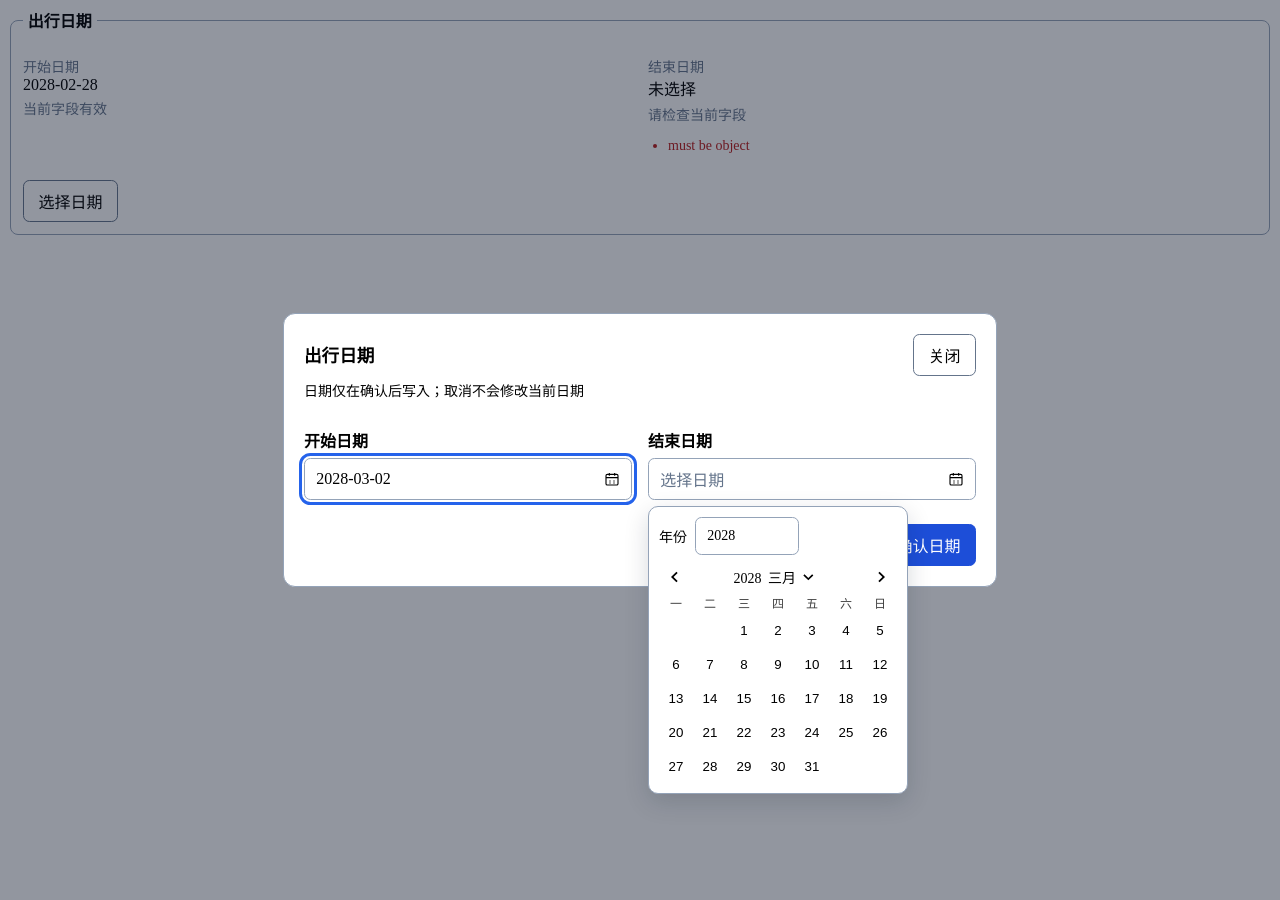
Test: handles a real unwritable second parent without rolling back the committed start
Earlier steps of the test are not shown.
Click the button "3".
click(812, 630)  # box [796, 614, 828, 646]
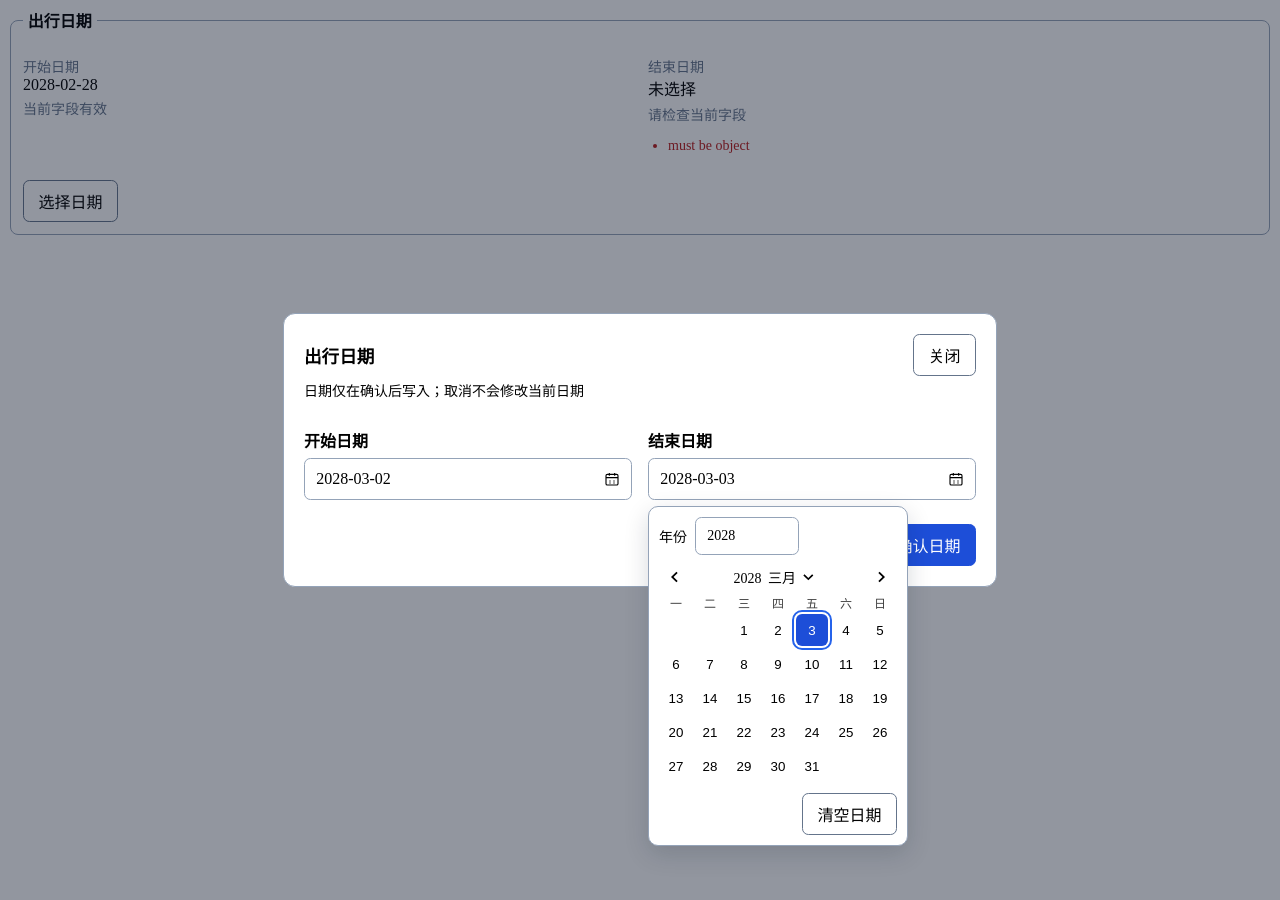
Click the button "确认日期".
click(929, 545)  # box [881, 524, 976, 566]
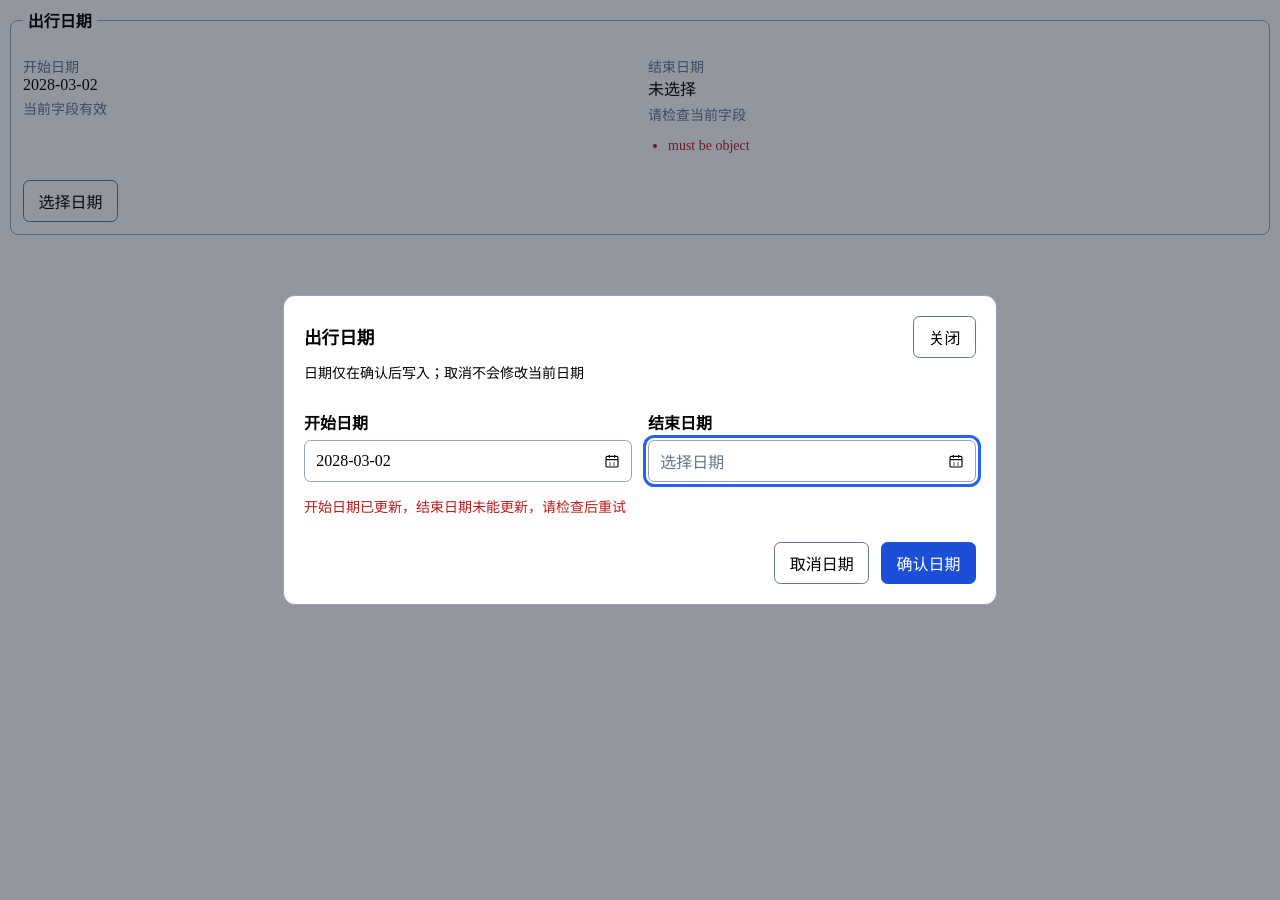
Now the message shows "开始日期已更新", box [304, 500, 626, 515]
